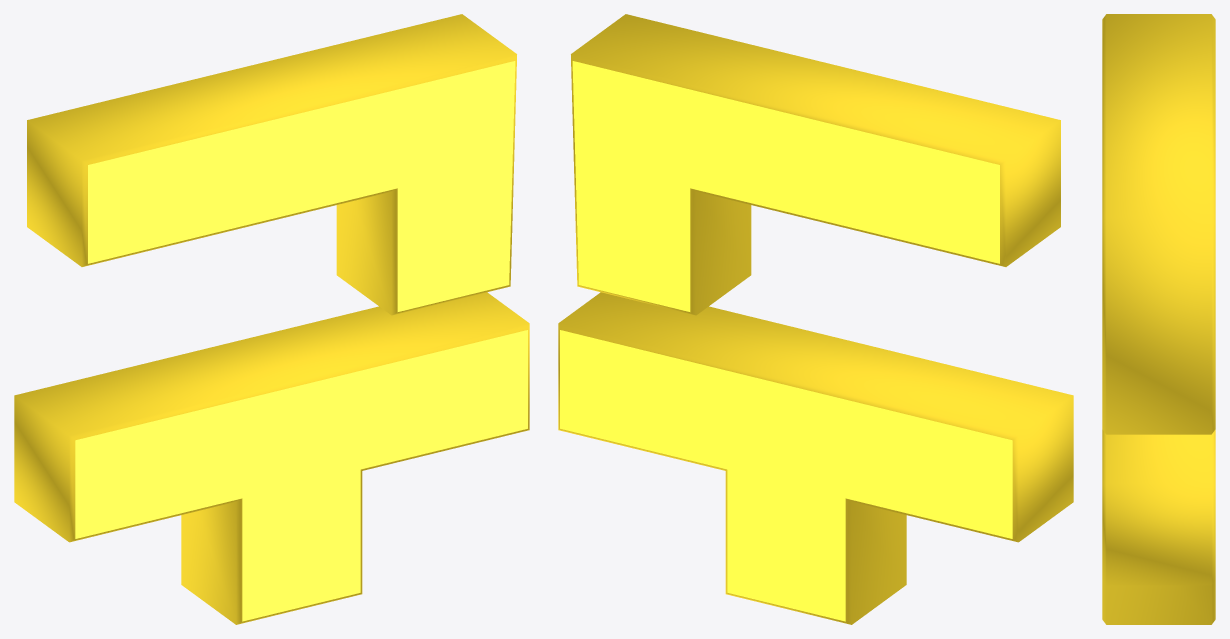
The picture shows the model from 3 angles, left to right: view 1: azimuth 30°, elevation 25°; view 2: azimuth 150°, elevation 25°; view 3: azimuth 270°, elevation 25°; orthographic projection. The views are drawn at different scales.
Parts seen in each view (by area): view 1: glyph; view 2: glyph; view 3: glyph.
Boxes of the visible parts, <box> form: glyph: <box>14,14,529,624</box>; glyph: <box>558,14,1073,624</box>; glyph: <box>1102,14,1215,624</box>.
Bounding box in the file's own units: 0.0725 × 0.0756 × 0.0162.
